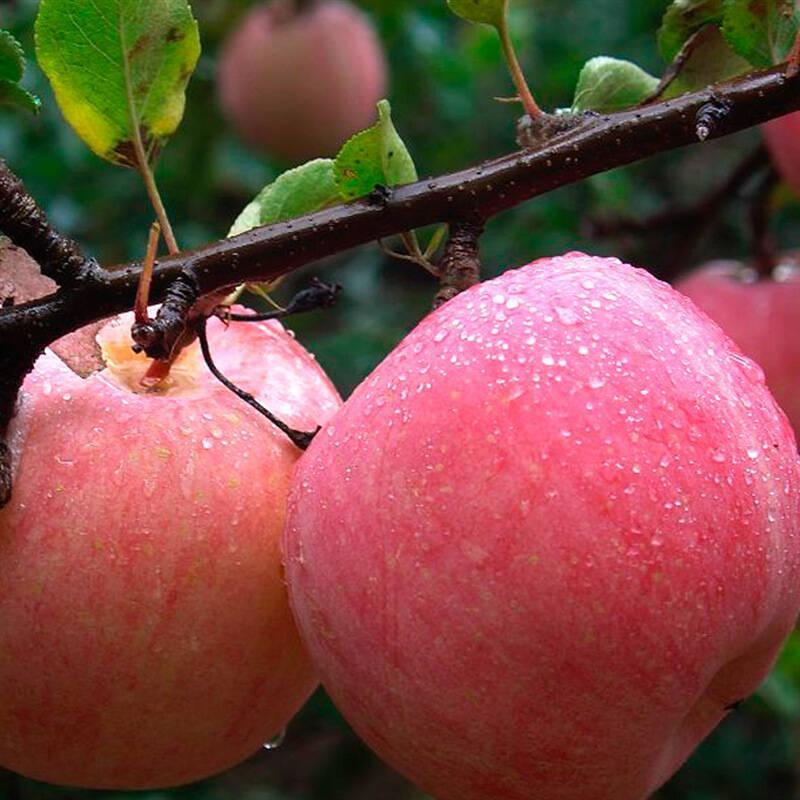apple: (281, 253, 792, 774), (1, 319, 332, 792)
